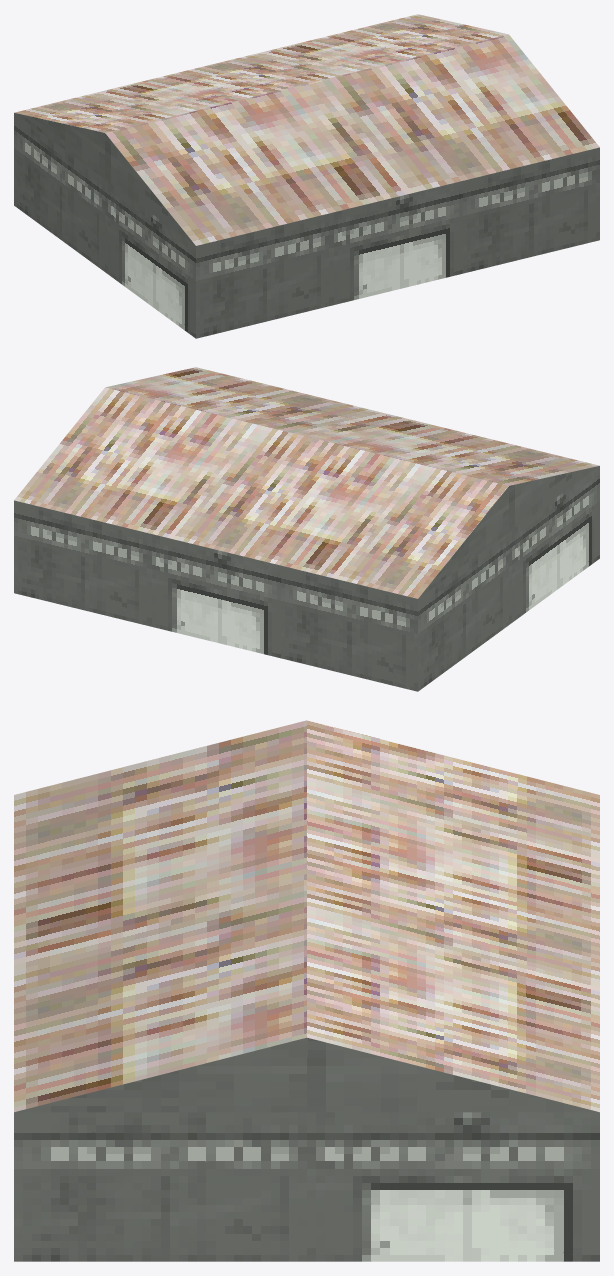
Rendered from uvmd-0060.glb.
3 renders of one model, top to bottom at view 1: azimuth 30°, elevation 25°; view 2: azimuth 150°, elevation 25°; view 3: azimuth 270°, elevation 25°, orthographic. The views are drawn at different scales.
Visible parts, largest first — view 1: uvmd-0060; view 2: uvmd-0060; view 3: uvmd-0060.
Part boxes in pixels (x1=…): uvmd-0060: x1=14, y1=14, x2=599, y2=338; uvmd-0060: x1=14, y1=367, x2=599, y2=691; uvmd-0060: x1=14, y1=720, x2=599, y2=1261.
Size of the model in its own units: 246 by 81 by 192.
Materials: 2 (2 with a texture image).
